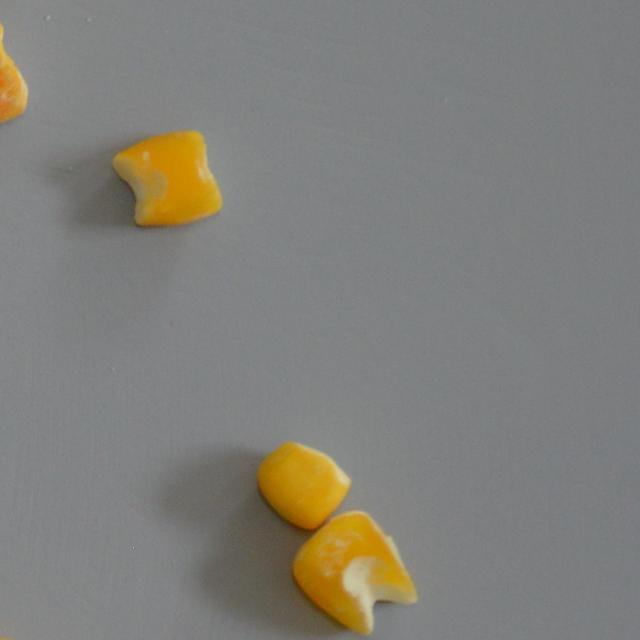no_canjicado: (110, 128, 224, 228), (254, 438, 352, 530)
pelicula: (289, 508, 418, 639), (0, 10, 29, 130)
